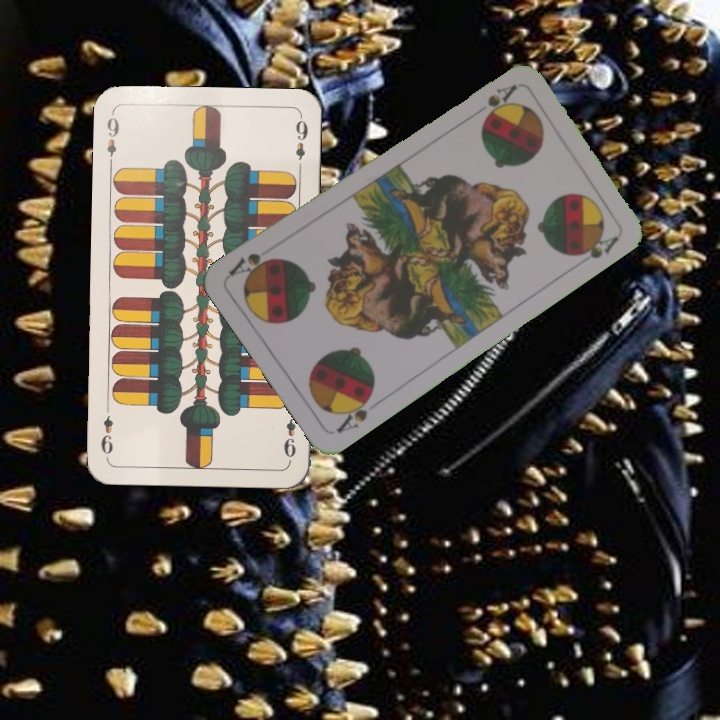E9: (280, 403, 299, 463), (103, 109, 122, 168)
SA: (332, 387, 376, 437), (483, 80, 520, 110)
